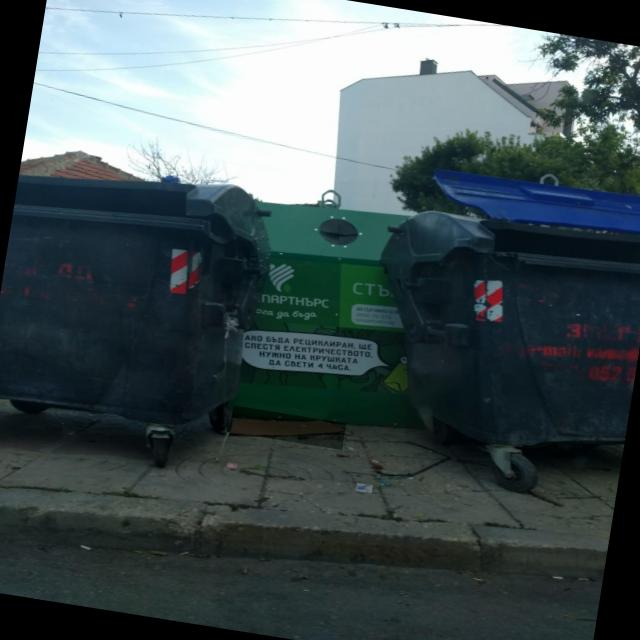Corrugated carton: (230, 419, 345, 435)
Other plastic bottle: (356, 486, 373, 492), (227, 464, 237, 468)
